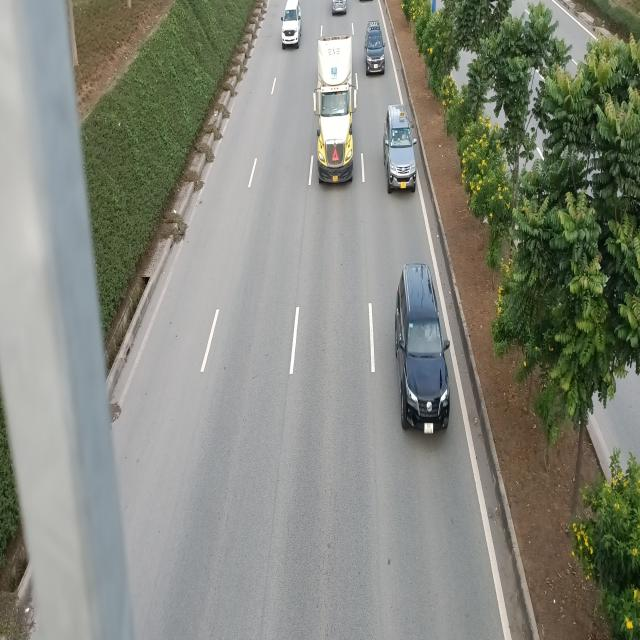car: (394, 264, 450, 433), (385, 104, 418, 192), (363, 21, 385, 75), (281, 0, 302, 46)
container: (316, 34, 360, 181)
